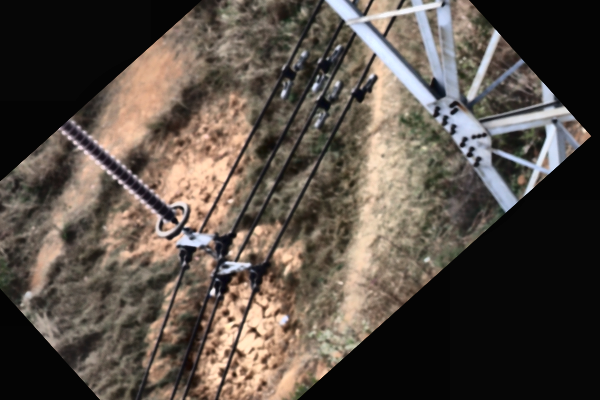damper: (278, 47, 310, 103), (311, 39, 343, 94), (311, 77, 343, 130)
damper_defect: (351, 70, 378, 107)
